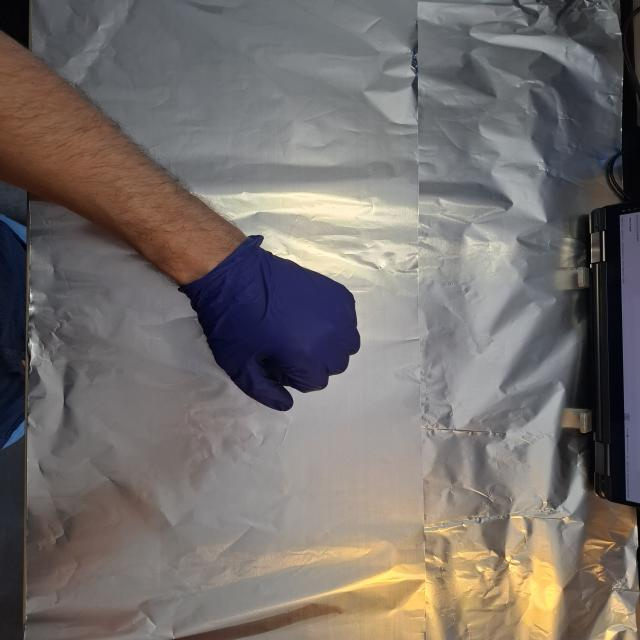glove_on: (177, 233, 365, 414)
